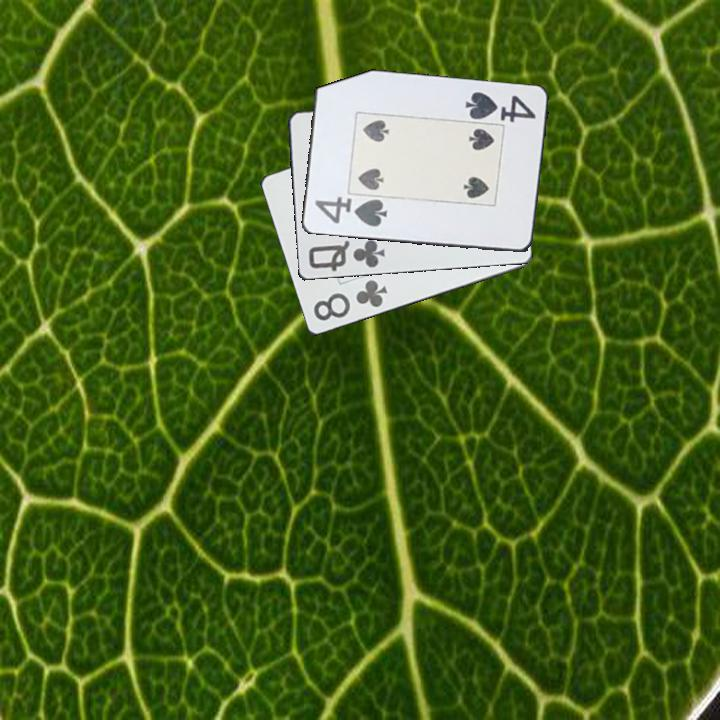4s: (311, 193, 390, 230), (460, 89, 538, 126)
8c: (309, 276, 391, 324)
Qc: (305, 236, 388, 275)
